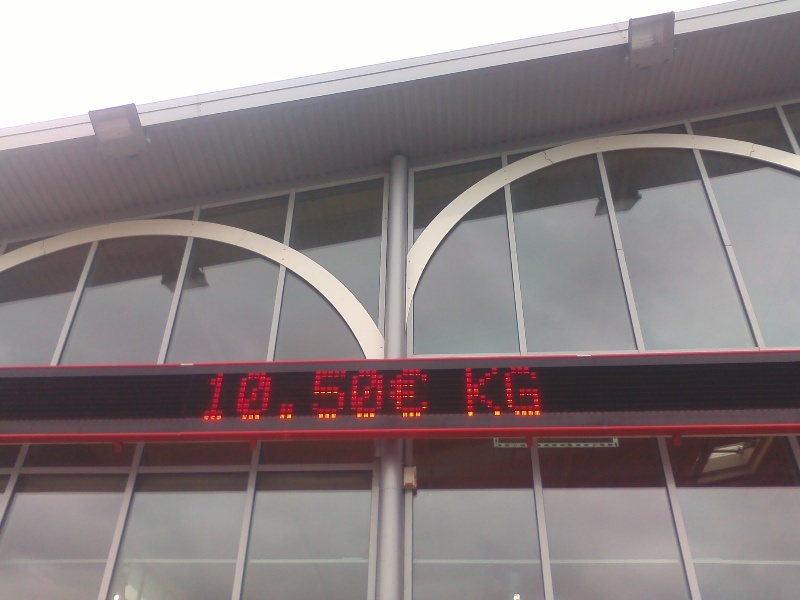text: (225, 367, 240, 422), (241, 367, 256, 422), (257, 367, 272, 422), (273, 367, 288, 422), (289, 367, 304, 422), (305, 367, 320, 422), (321, 367, 336, 422), (337, 367, 352, 422), (353, 367, 368, 422), (369, 367, 384, 422), (385, 367, 400, 422), (401, 367, 416, 422), (417, 367, 432, 422), (210, 367, 224, 422), (465, 367, 480, 418), (481, 367, 496, 418), (497, 367, 512, 418), (513, 367, 528, 418), (529, 367, 542, 418)
